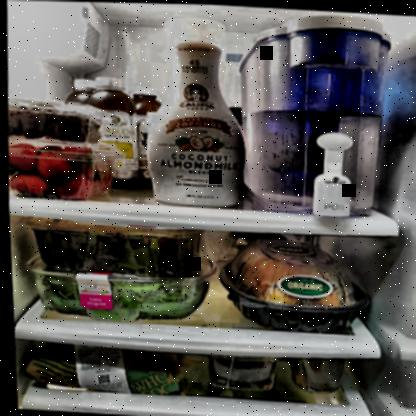blueberries: (6, 113, 86, 141)
strawberries: (33, 151, 72, 185), (6, 144, 38, 173), (8, 176, 45, 198), (60, 175, 89, 196)
